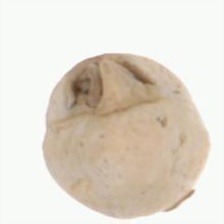L3: (76, 62, 152, 115)
L4: (44, 53, 210, 219)
